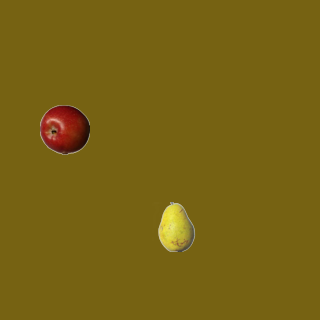Apple Braeburn: (39, 104, 89, 154)
Pear Monster: (151, 201, 201, 251)
